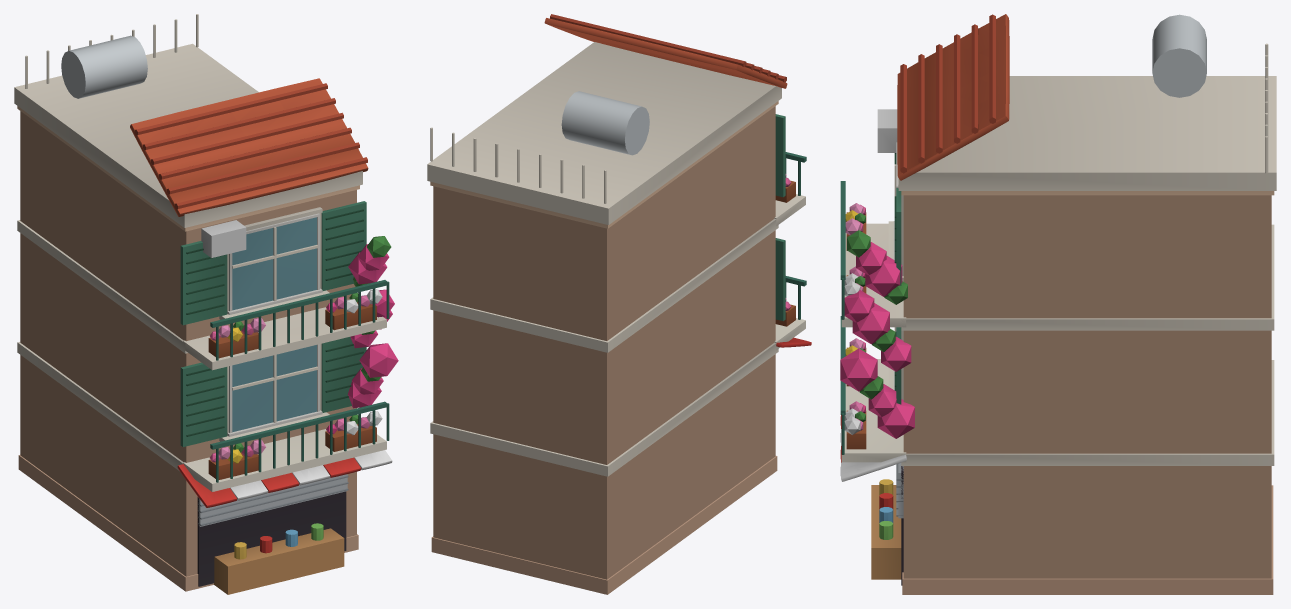
Rendered from hs-1d7skbz.glb.
The picture shows the model from 3 angles, left to right: view 1: azimuth 30°, elevation 25°; view 2: azimuth 150°, elevation 25°; view 3: azimuth 270°, elevation 25°; orthographic projection. The views are drawn at different scales.
Size of the model in its own units: 5.07 by 10.95 by 8.77.
